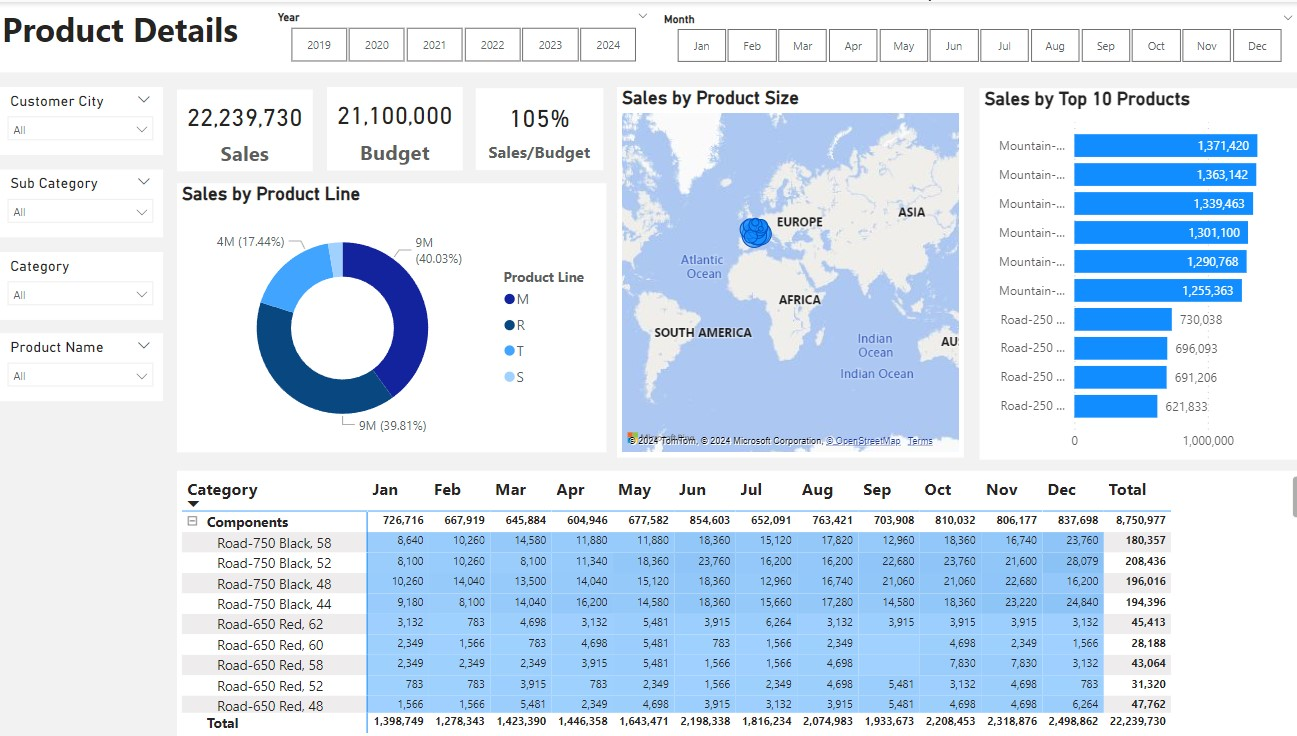

What the dashboard file says about the page in this screenshot:
{"tool":"powerbi","page":{"name":"Product Details","canvas":[1280,720],"ordinal":2},"visuals":[{"type":"textbox","box":[0,0,1279.9,68.5],"z":0},{"type":"slicer","fields":{"Values":["DIM Customers.Customer City"]},"box":[0,83.4,162.6,66],"z":1000},{"type":"slicer","fields":{"Values":["DIM Products.Sub Category"]},"box":[0,164.1,162.6,66],"z":2000},{"type":"slicer","fields":{"Values":["DIM Products.Product Category"]},"box":[0,244.8,162.6,66],"z":3000},{"type":"slicer","fields":{"Values":["DIM Products.Product Name"]},"box":[0,324.2,162.6,66],"z":4000},{"type":"slicer","fields":{"Values":["DIM Calender.Year"]},"box":[261.6,3.7,387.5,61.1],"z":5000},{"type":"slicer","fields":{"Values":["DIM Calender.MonthShort"]},"box":[639.5,5.4,640.8,61],"z":6000},{"type":"pivotTable","fields":{"Values":["Key Measures.Sales"],"Columns":["DIM Calender.MonthShort"],"Rows":["DIM Products.Product Category","DIM Products.Product Name"]},"box":[176.1,457.9,1104.2,261.5],"z":7000},{"type":"card","fields":{"Values":["Key Measures.Sales"]},"box":[176.1,85.4,132.8,79.9],"z":8000},{"type":"card","fields":{"Values":["Key Measures.Budget Sum"]},"box":[322.4,82.6,132.8,81.3],"z":9000},{"type":"donutChart","fields":{"Y":["Key Measures.Sales"],"Category":["DIM Products.Product Line"]},"box":[176.1,177.5,420,262.8],"z":10000},{"type":"map","fields":{"Category":["DIM Customers.Customer City"],"Size":["Key Measures.Sales"]},"box":[606.5,83.7,338.9,362.3],"z":11000},{"type":"barChart","title":"Sales by Top 10 Products","fields":{"Y":["Key Measures.Sales"],"Category":["DIM Products.Product Name"]},"box":[960.3,84,319.7,363.1],"z":12000},{"type":"card","fields":{"Values":["Key Measures.Sales/Budget Amount"]},"box":[468.8,84,124.6,79.9],"z":13000}]}

Visuals, with their boxes in screenshot pixels (x1, y1, x2, y2), scaled from the page's 1280x720 canvas onto the 1297x736 screenshot:
textbox: [left=0, top=0, right=1296, bottom=70]
slicer - DIM Customers.Customer City: [left=0, top=85, right=165, bottom=153]
slicer - DIM Products.Sub Category: [left=0, top=168, right=165, bottom=235]
slicer - DIM Products.Product Category: [left=0, top=250, right=165, bottom=318]
slicer - DIM Products.Product Name: [left=0, top=331, right=165, bottom=399]
slicer - DIM Calender.Year: [left=265, top=4, right=658, bottom=66]
slicer - DIM Calender.MonthShort: [left=648, top=6, right=1296, bottom=68]
pivotTable - Key Measures.Sales x DIM Calender.MonthShort: [left=178, top=468, right=1296, bottom=735]
card - Key Measures.Sales: [left=178, top=87, right=313, bottom=169]
card - Key Measures.Budget Sum: [left=327, top=84, right=461, bottom=168]
donutChart - Key Measures.Sales x DIM Products.Product Line: [left=178, top=181, right=604, bottom=450]
map - DIM Customers.Customer City x Key Measures.Sales: [left=615, top=86, right=958, bottom=456]
"Sales by Top 10 Products" barChart: [left=973, top=86, right=1296, bottom=457]
card - Key Measures.Sales/Budget Amount: [left=475, top=86, right=601, bottom=168]
